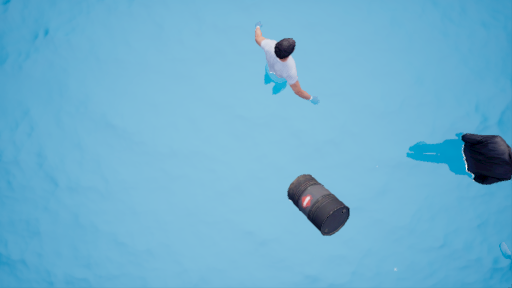person: (234, 19, 329, 110), (406, 132, 512, 190)
